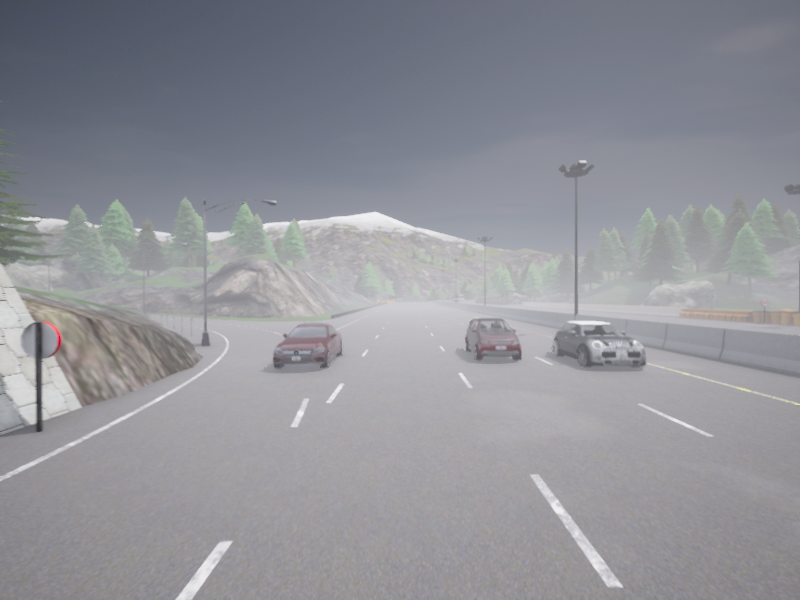vehicle: (553, 321, 645, 367), (273, 322, 342, 368), (465, 318, 521, 360), (454, 295, 464, 301), (455, 299, 460, 301)
